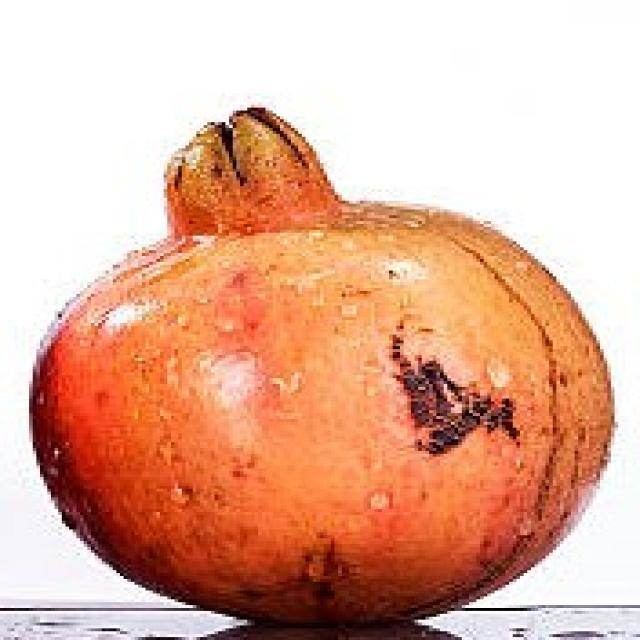overripe: (23, 100, 620, 625)
